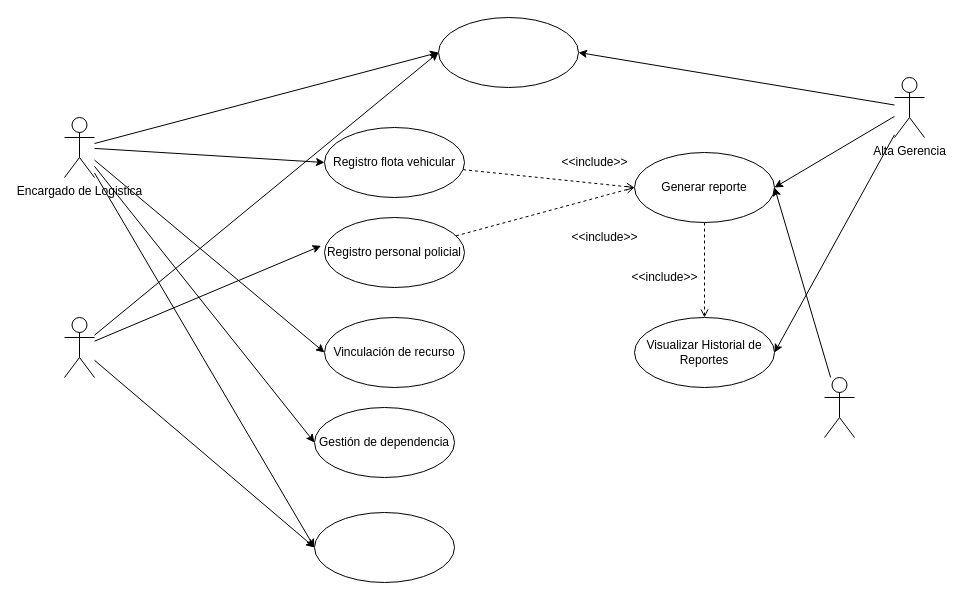
Image size: 963x600. Some labels were removed from this diagram. Here are the shapes that lost their labels. From the top down, the centre of each, then its label:
At pixel 508 52: "Login".
At pixel 79 347: "Encargado auxiliar".
At pixel 839 407: "Responsable del vehículo".
At pixel 384 547: "Crear Orden de Trabajo".
